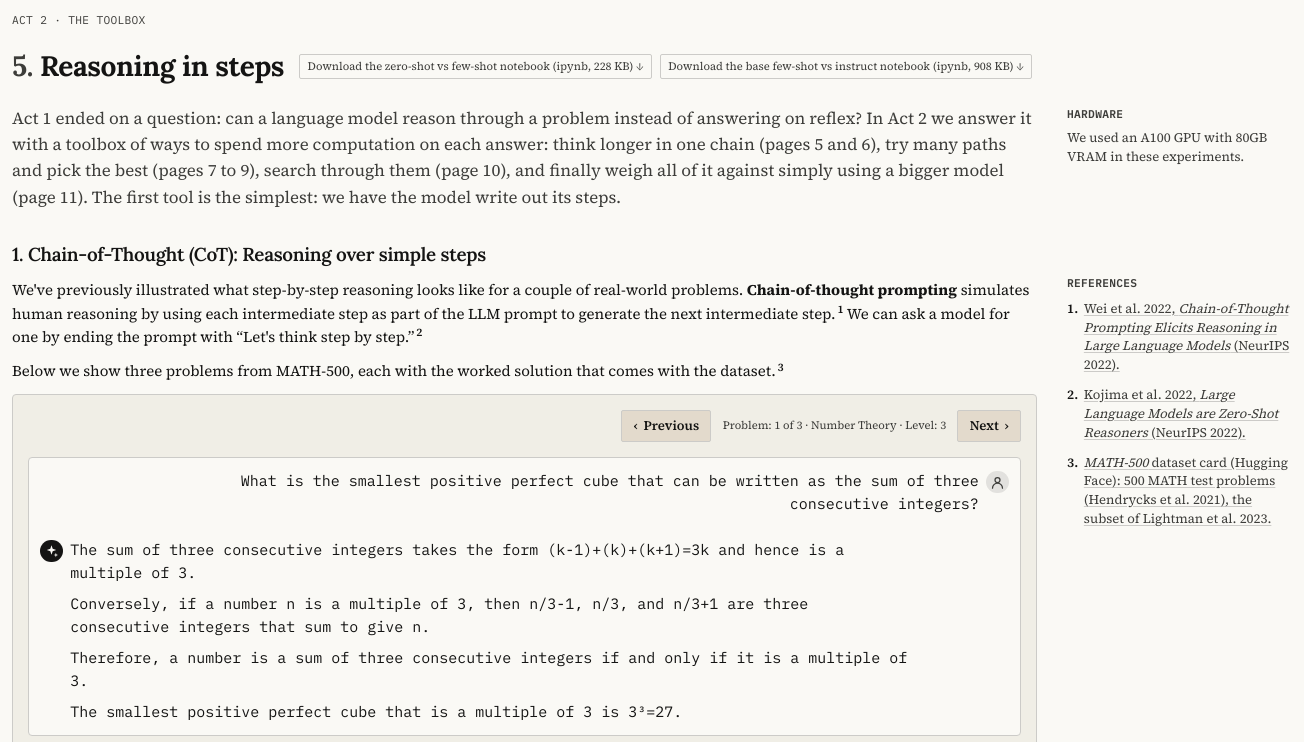
Page 5, figure 1: worked solutions from MATH-500 › steps through the three chosen problems one at a time, wrapping round
The image size is (1304, 742).
Click the button with aria-label "Next problem".
click(989, 426)  # box [957, 410, 1021, 442]
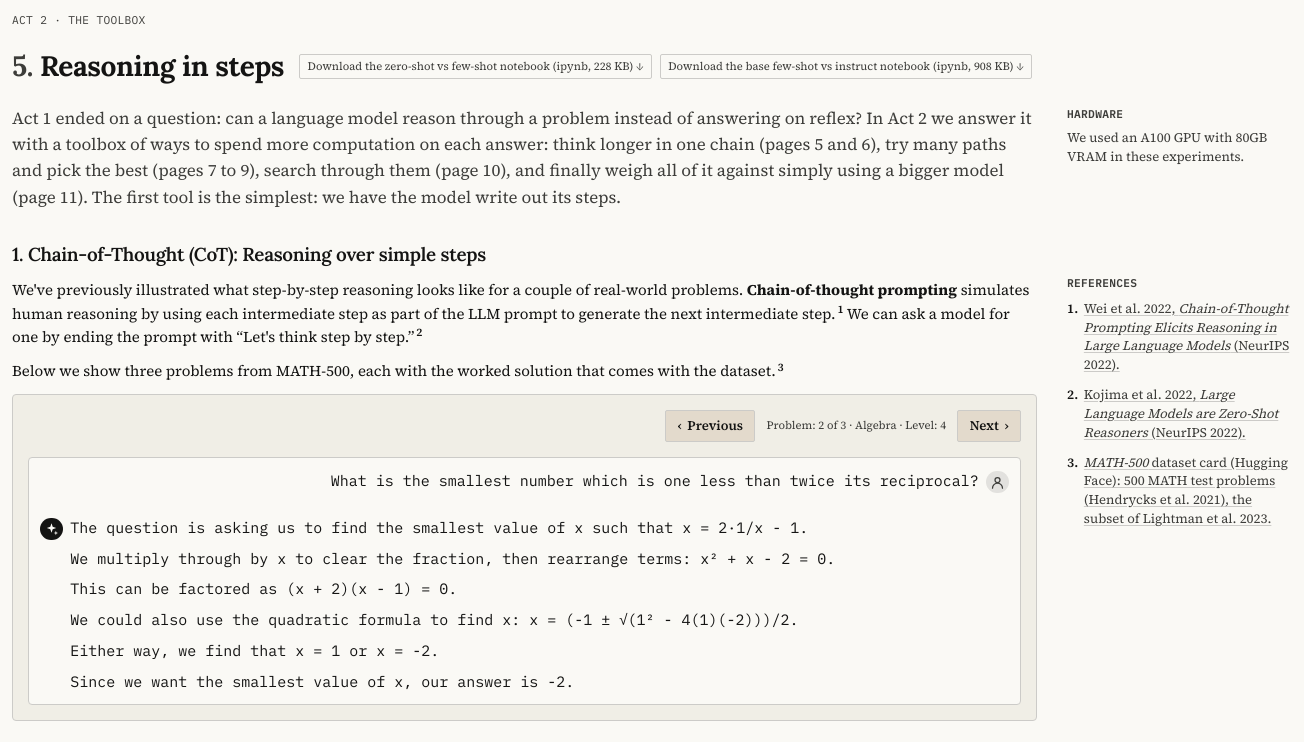
Click the button with aria-label "Next problem".
click(989, 426)  # box [957, 410, 1021, 442]
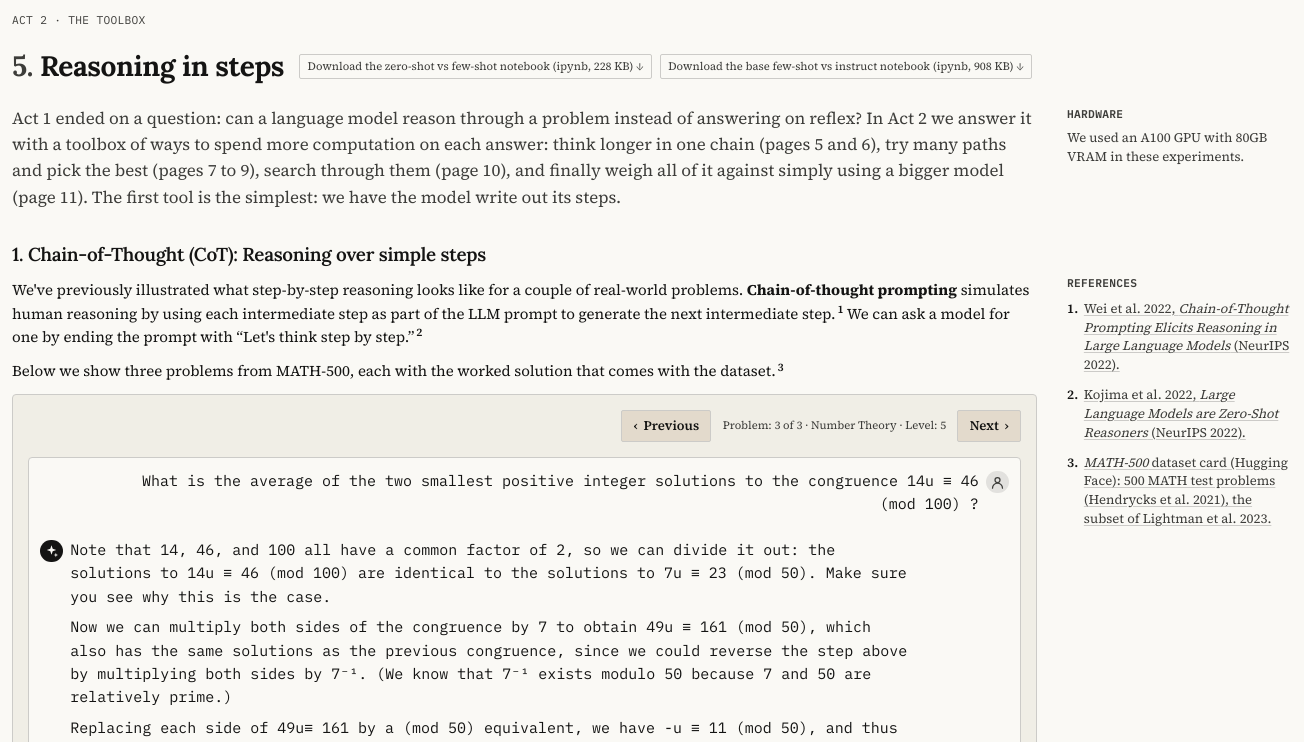
Click the button with aria-label "Next problem".
click(989, 426)  # box [957, 410, 1021, 442]
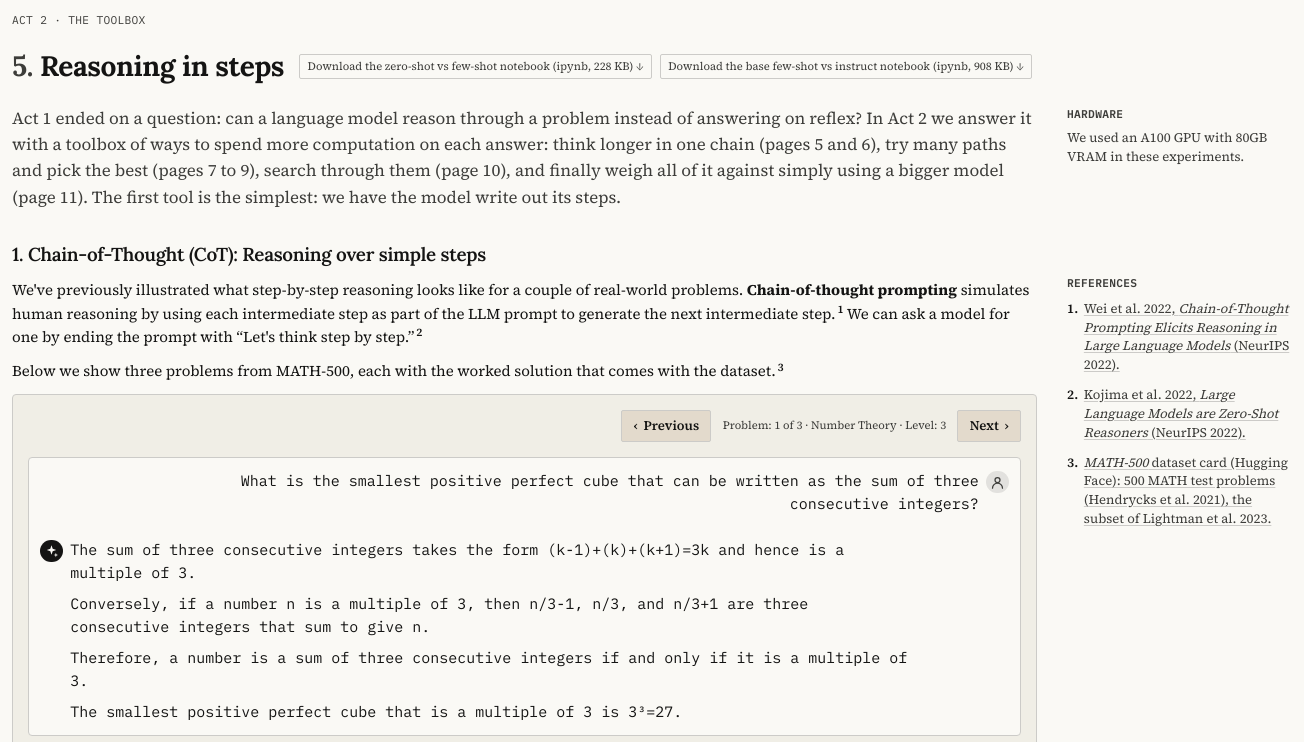
Click the button with aria-label "Previous problem".
click(666, 426)  # box [621, 410, 711, 442]
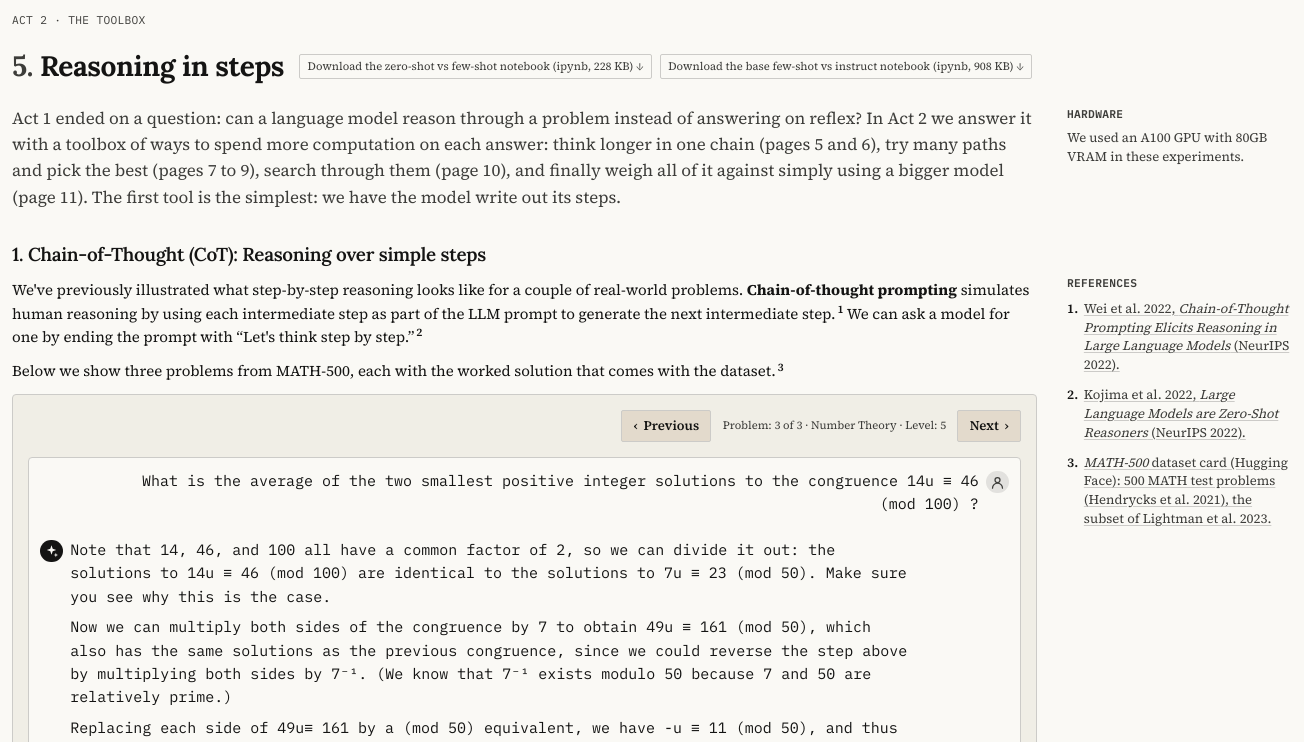
Now the text "Problem: 3 of 3 · Number Theory · Level: 5" is shown, box [723, 418, 946, 433]
